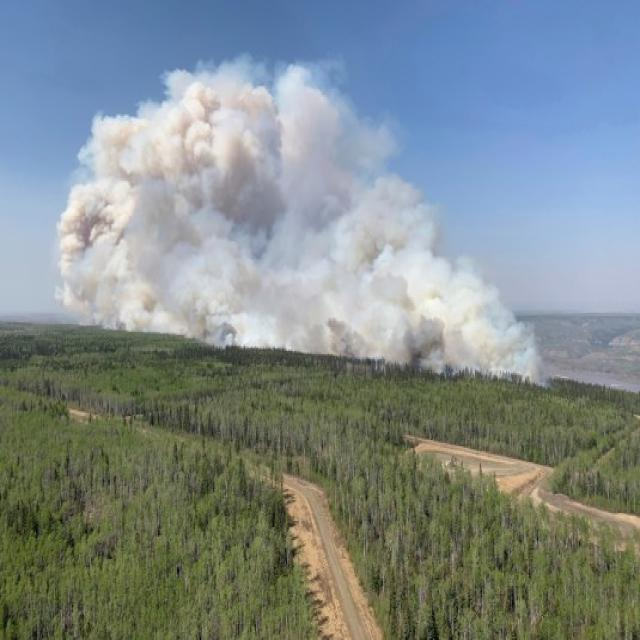Smoke: (52, 57, 544, 396)
